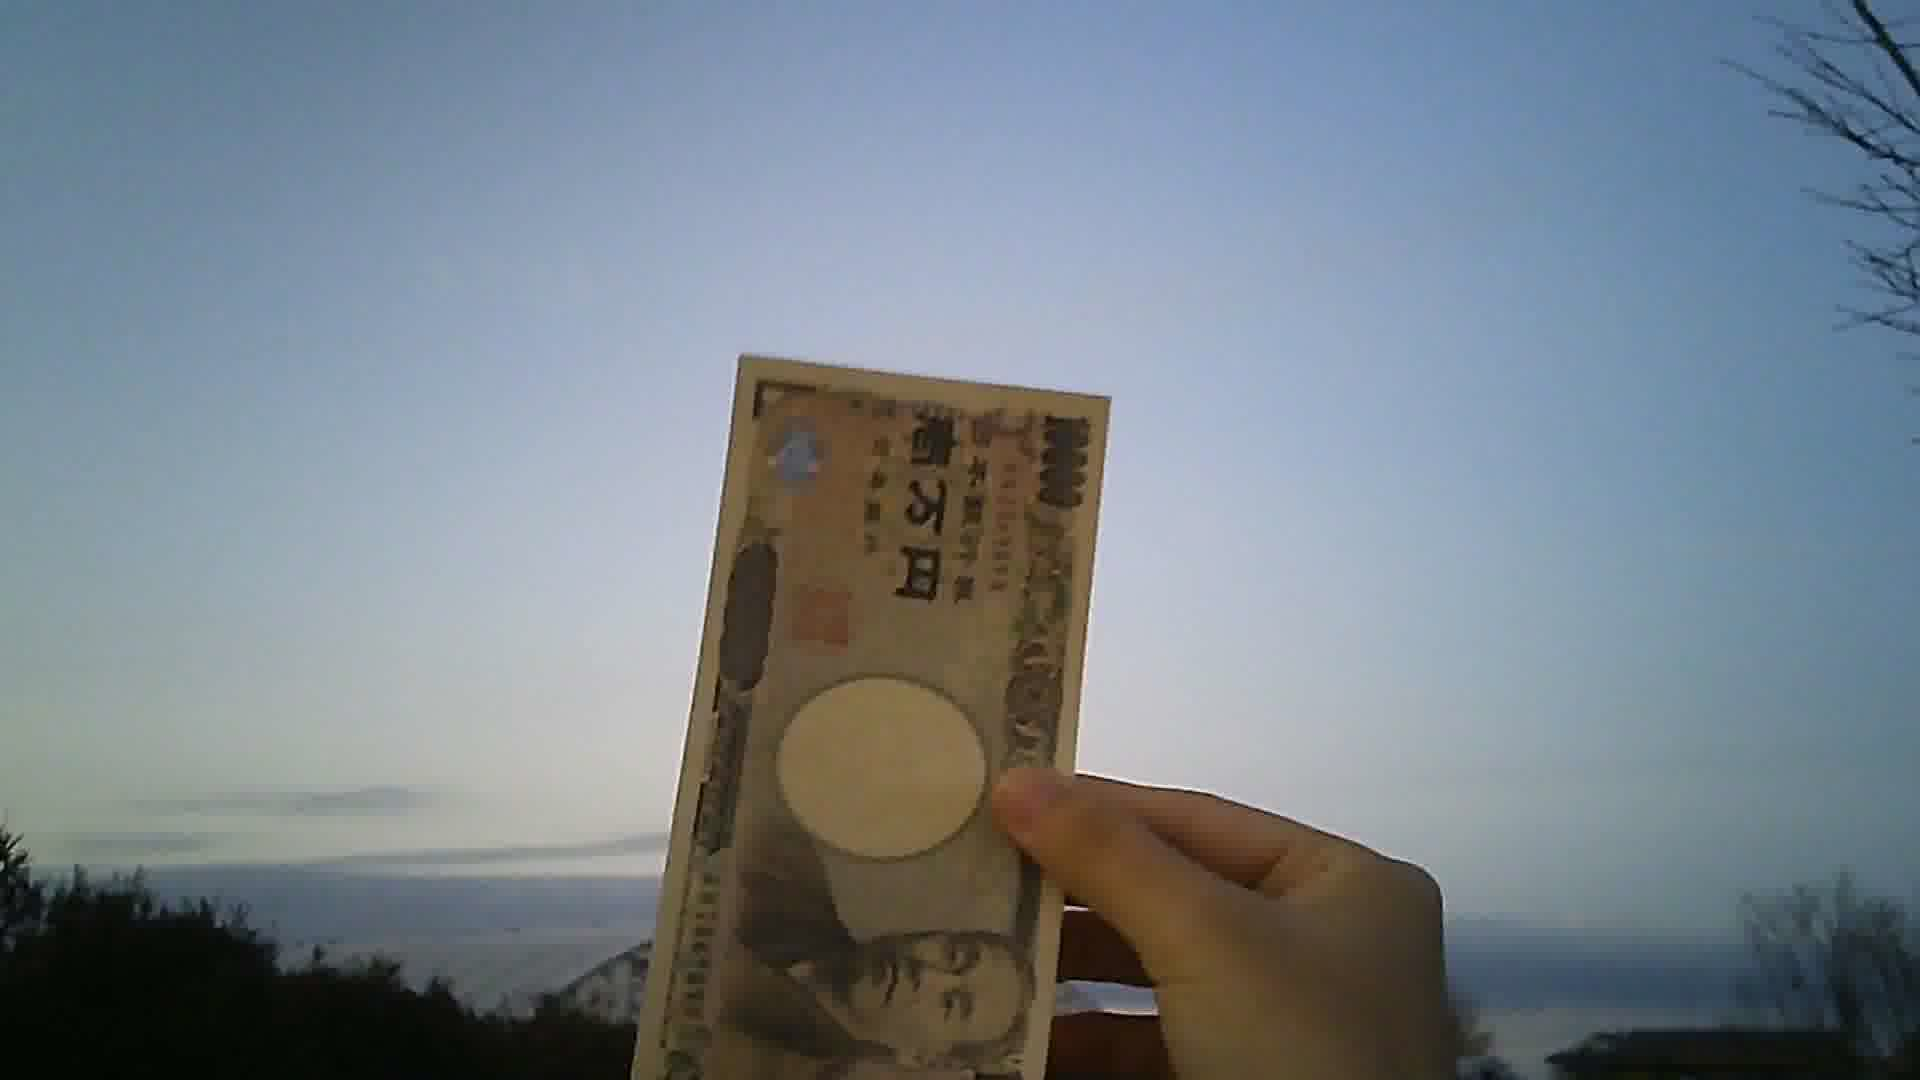10,000 Yen: (655, 345, 1116, 1079)
